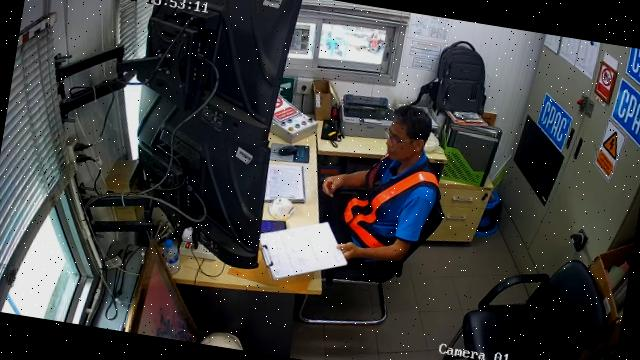Head: (387, 105, 432, 161)
People: (323, 107, 443, 263)
Phone: (262, 221, 287, 233)
